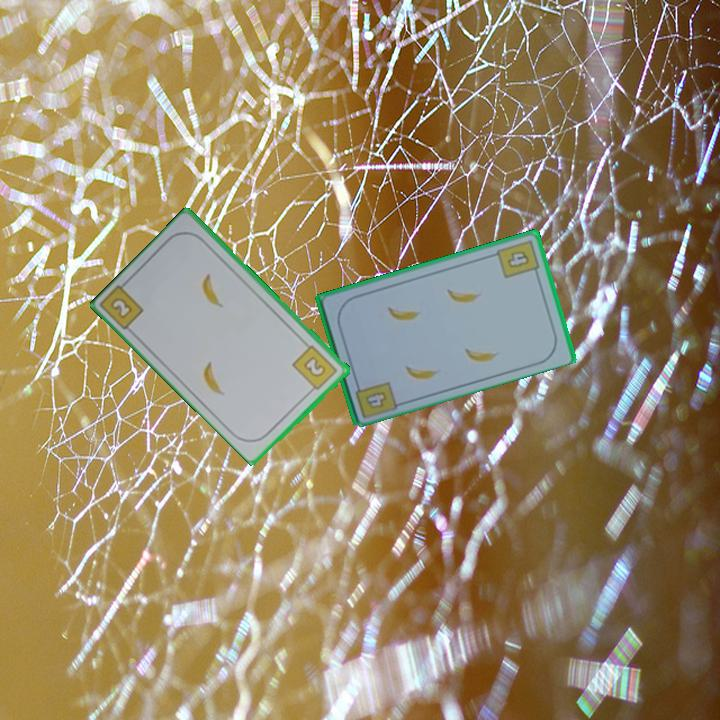2b: (289, 341, 341, 396), (107, 294, 136, 322)
4b: (493, 236, 542, 281), (364, 389, 387, 409)
